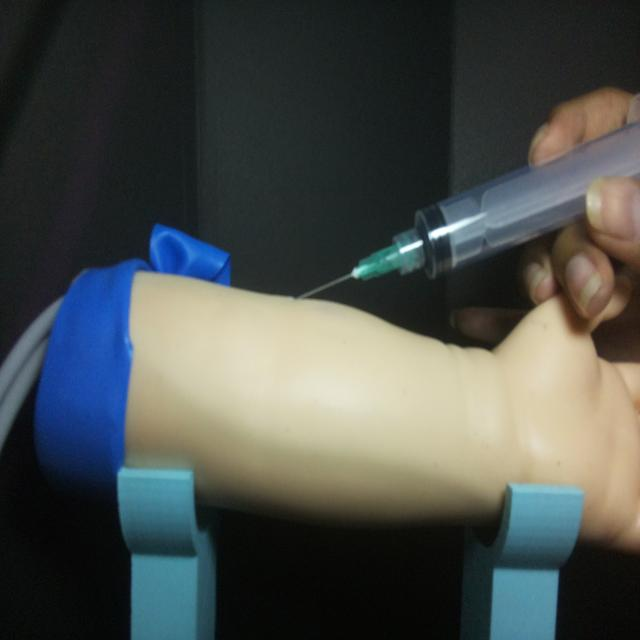16deg: (293, 88, 640, 304)
